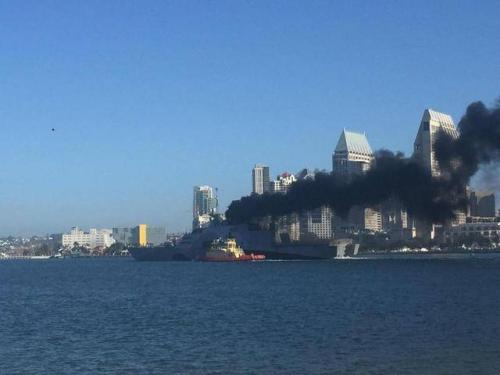smoke: (224, 147, 500, 227)
